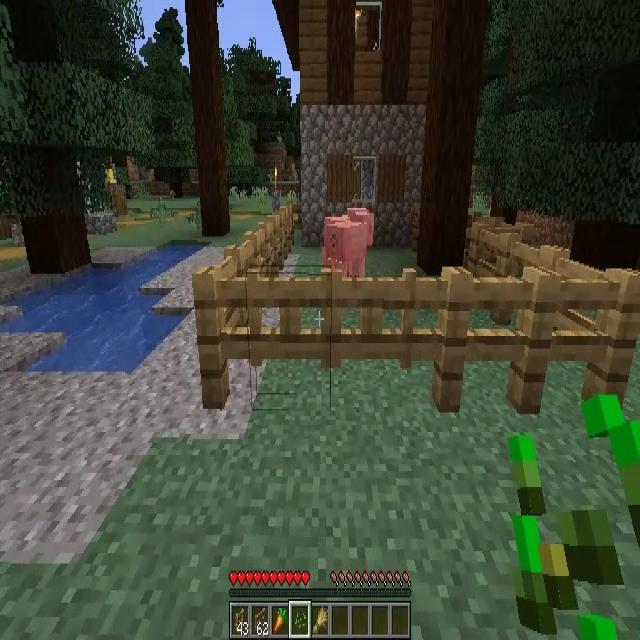pig: (322, 209, 375, 281)
